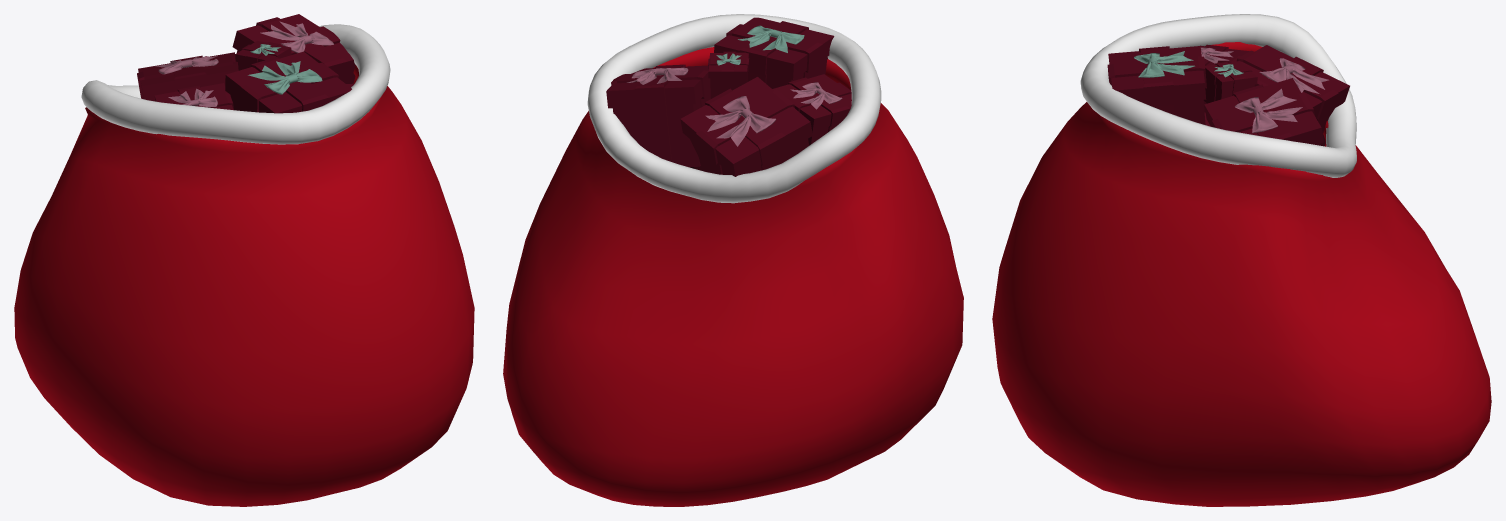
File: christmas_gift_sack.glb
3 views of the same model, side by side, from view 1: azimuth 30°, elevation 25°; view 2: azimuth 150°, elevation 25°; view 3: azimuth 270°, elevation 25° (orthographic). The views are drawn at different scales.
Parts seen in each view (by area): view 1: sack, Box.001, Box, Box.005, Box.003, Box.008; view 2: sack, Box.005, Box, Box.001, Box.003, Box.008; view 3: sack, Box.001, Box, Box.005, Box.008, Box.003.
Part boxes in pixels (bbox=[...]): sack: bbox=[14, 24, 474, 506]; Box.001: bbox=[225, 51, 351, 113]; Box: bbox=[232, 14, 355, 83]; Box.005: bbox=[137, 52, 238, 101]; Box.003: bbox=[154, 83, 233, 110]; Box.008: bbox=[235, 41, 291, 70]; sack: bbox=[503, 14, 963, 506]; Box.005: bbox=[680, 77, 812, 176]; Box: bbox=[606, 64, 710, 167]; Box.001: bbox=[714, 17, 834, 88]; Box.003: bbox=[772, 74, 851, 145]; Box.008: bbox=[708, 51, 749, 98]; sack: bbox=[992, 14, 1491, 506]; Box.001: bbox=[1107, 46, 1206, 124]; Box: bbox=[1204, 78, 1323, 145]; Box.005: bbox=[1236, 45, 1349, 146]; Box.008: bbox=[1203, 61, 1257, 103]; Box.003: bbox=[1200, 44, 1249, 112].
Bounding box in the file's own units: 2.34 × 2.34 × 2.57.
